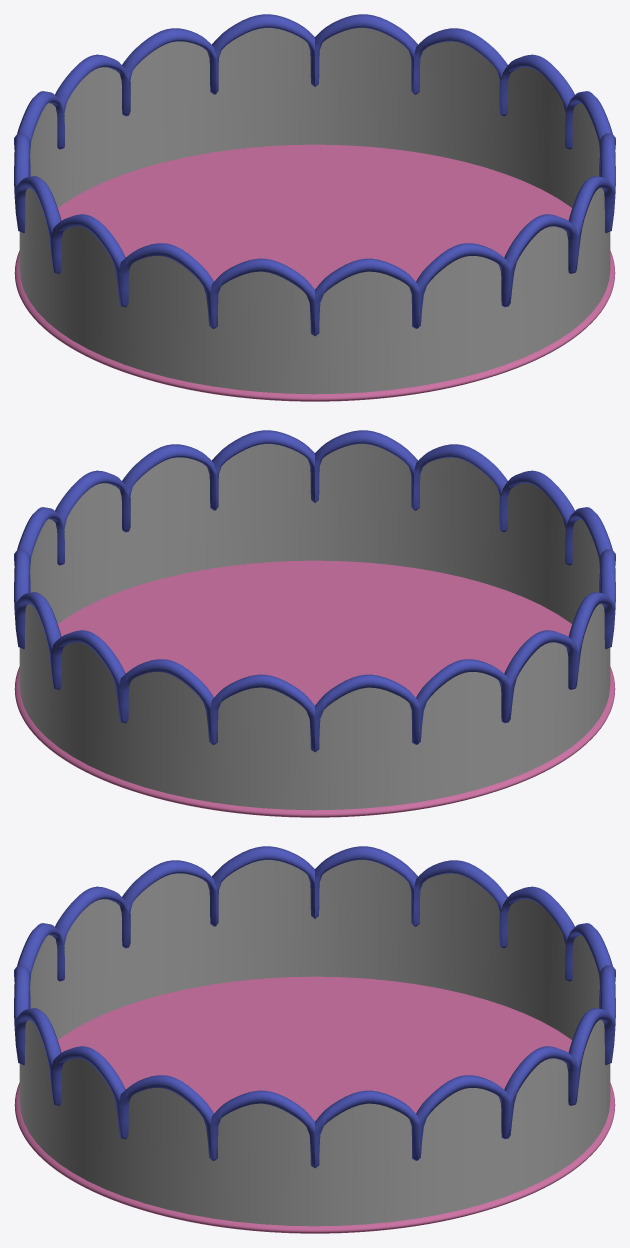
File: SM_DogPen.fbx
3 renders of one model, top to bottom at view 1: azimuth 30°, elevation 25°; view 2: azimuth 150°, elevation 25°; view 3: azimuth 270°, elevation 25°, orthographic.
Parts seen in each view (by area): view 1: SM_Bars, SM_Floor, SM_Lining; view 2: SM_Bars, SM_Floor, SM_Lining; view 3: SM_Bars, SM_Floor, SM_Lining.
Part boxes in pixels (<box>): SM_Bars: <box>19,28,610,394</box>; SM_Floor: <box>14,144,615,401</box>; SM_Lining: <box>14,14,615,336</box>; SM_Bars: <box>19,444,610,810</box>; SM_Floor: <box>14,560,615,817</box>; SM_Lining: <box>14,430,615,752</box>; SM_Bars: <box>19,860,610,1226</box>; SM_Floor: <box>14,976,615,1233</box>; SM_Lining: <box>14,846,615,1168</box>.
Bounding box in the file's own units: 393 × 98.72 × 388.
Materials: 2 (1 with a texture image).
